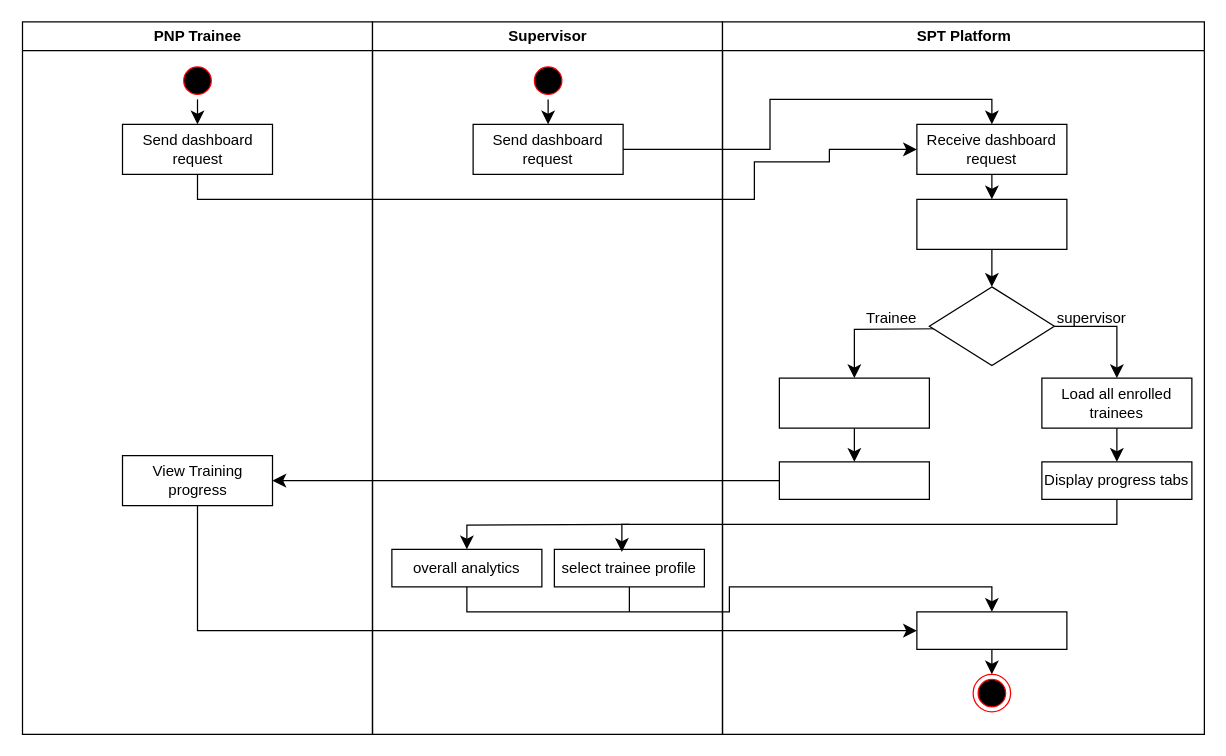
Image size: 1226x756. Some labels were removed from this diagram. Each missing label, with the centre of its shape:
Display own progress tabs: (x=853, y=480)
load progress: (x=991, y=630)
Load trainee own progress data: (x=853, y=402)
Validate role access: (x=991, y=223)
Which user role?: (x=991, y=326)
